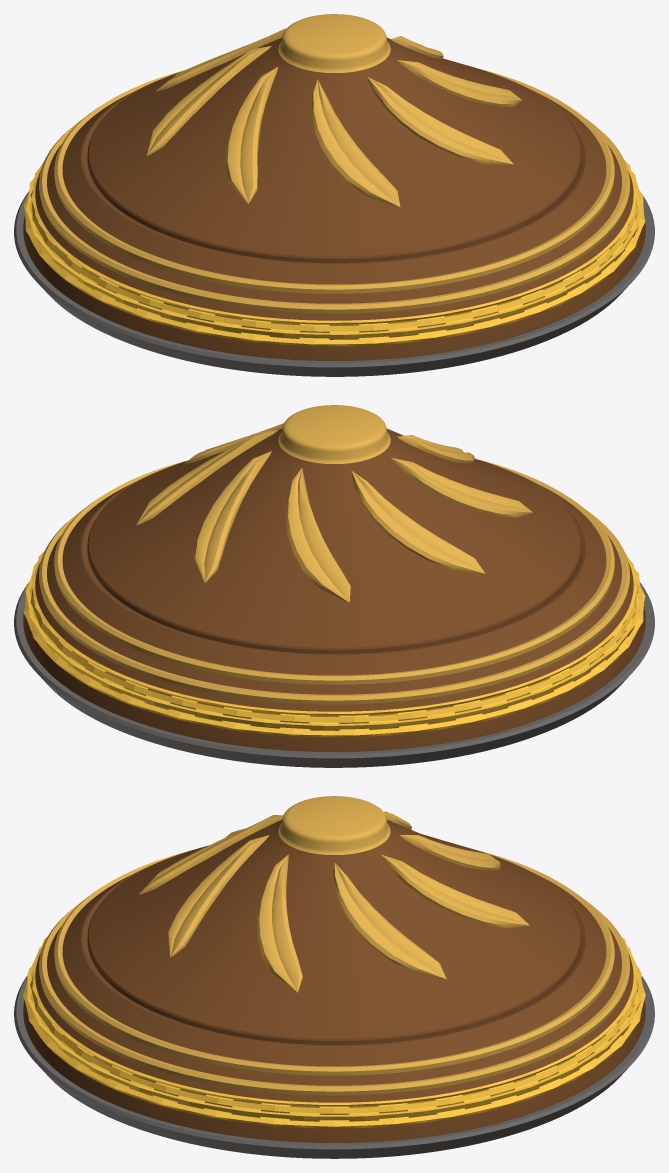
File: gasing_terengganu.glb
3 renders of one model, top to bottom at view 1: azimuth 30°, elevation 25°; view 2: azimuth 150°, elevation 25°; view 3: azimuth 270°, elevation 25°, orthographic.
Parts seen in each view (by area): view 1: Gasing_terengganu; view 2: Gasing_terengganu; view 3: Gasing_terengganu.
Boxes of the visible parts, bbox=[...] form: Gasing_terengganu: bbox=[14, 14, 654, 376]; Gasing_terengganu: bbox=[14, 405, 654, 767]; Gasing_terengganu: bbox=[14, 796, 654, 1158].
Size of the model in its own units: 1.12 by 0.56 by 1.12.
